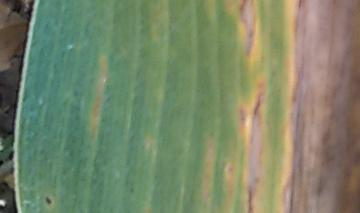tarspot: (42, 194, 54, 206), (294, 1, 304, 11)
